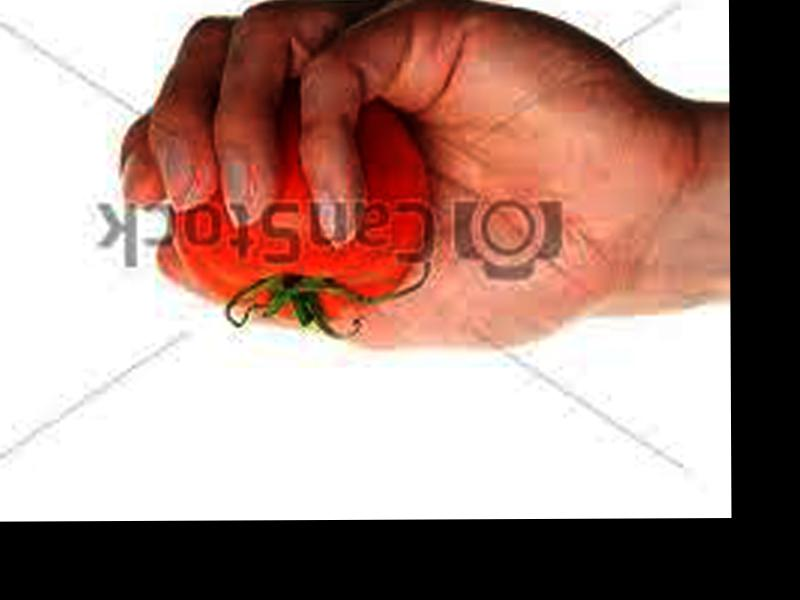Tomato: (171, 87, 424, 320)
